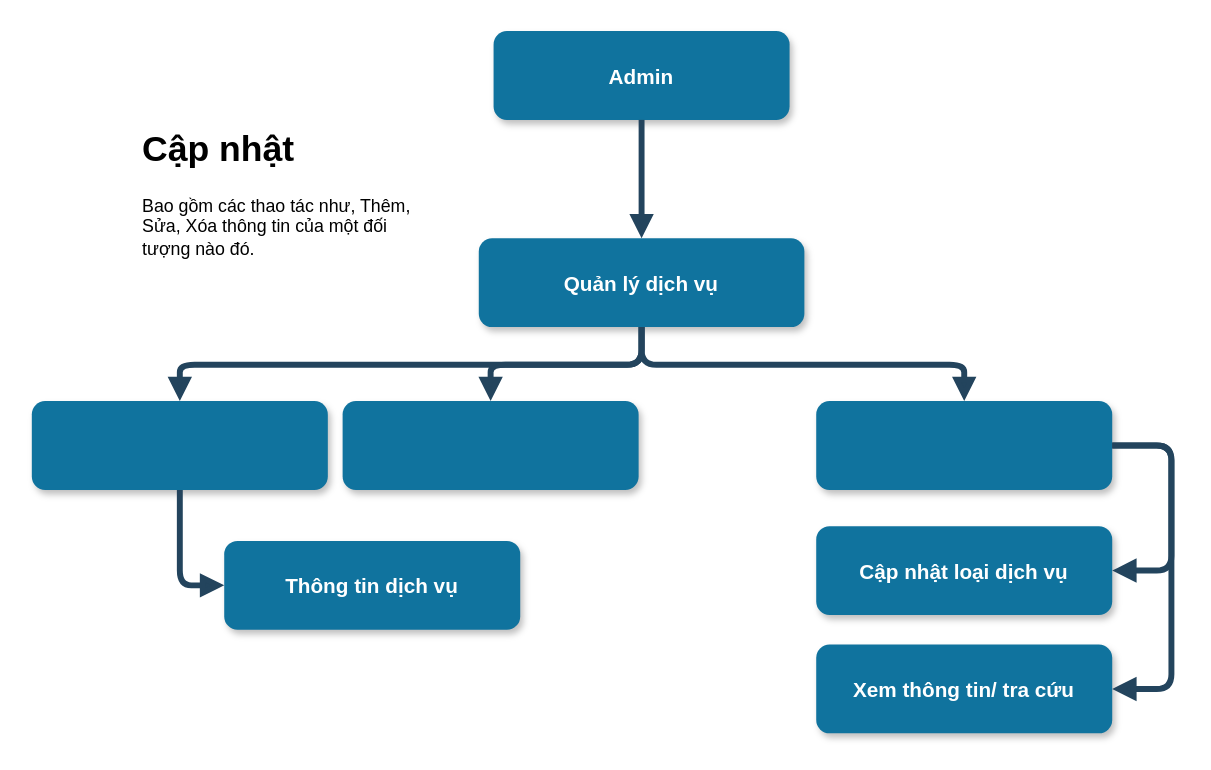
This 1211x770 diagram has some shape labels left out. Each missing label, with the centre of its shape:
"Cập nhật dịch vụ" belongs at (491,447).
"Quản lý loại dịch vụ" belongs at (965,447).
"Xem thông tin dịch vụ" belongs at (180,447).
